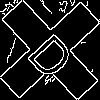D: (25, 25, 83, 82)
